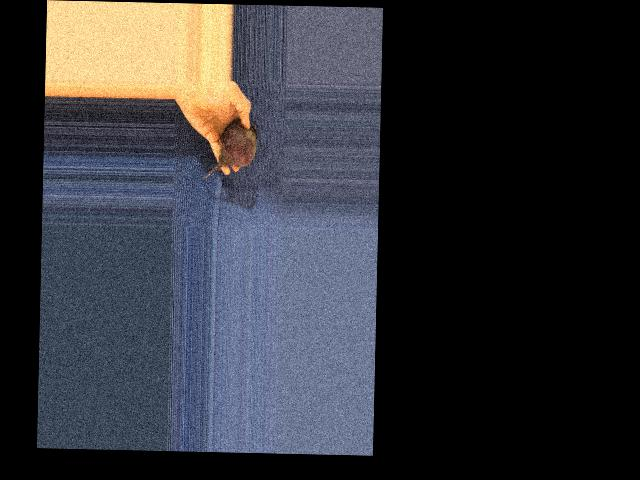beet: (202, 118, 259, 180)
